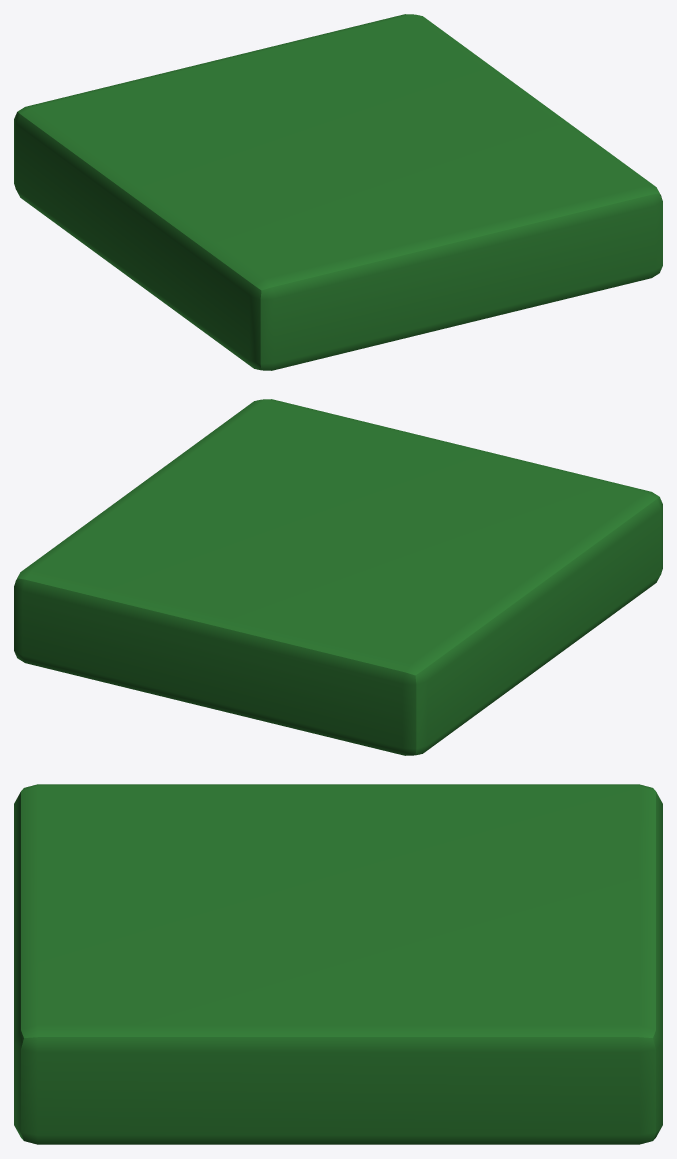
File: stand_win.fbx
The picture shows the model from 3 angles, top to bottom: view 1: azimuth 30°, elevation 25°; view 2: azimuth 150°, elevation 25°; view 3: azimuth 270°, elevation 25°; orthographic projection. The views are drawn at different scales.
Parts seen in each view (by area): view 1: stand_win; view 2: stand_win; view 3: stand_win.
Part boxes in pixels (x1,y1,x2,y2): stand_win: (14,14,662,370); stand_win: (14,399,662,755); stand_win: (14,784,662,1144).
Bounding box in the file's own units: 689 × 146 × 731.
Materials: 1 (1 with a texture image).
